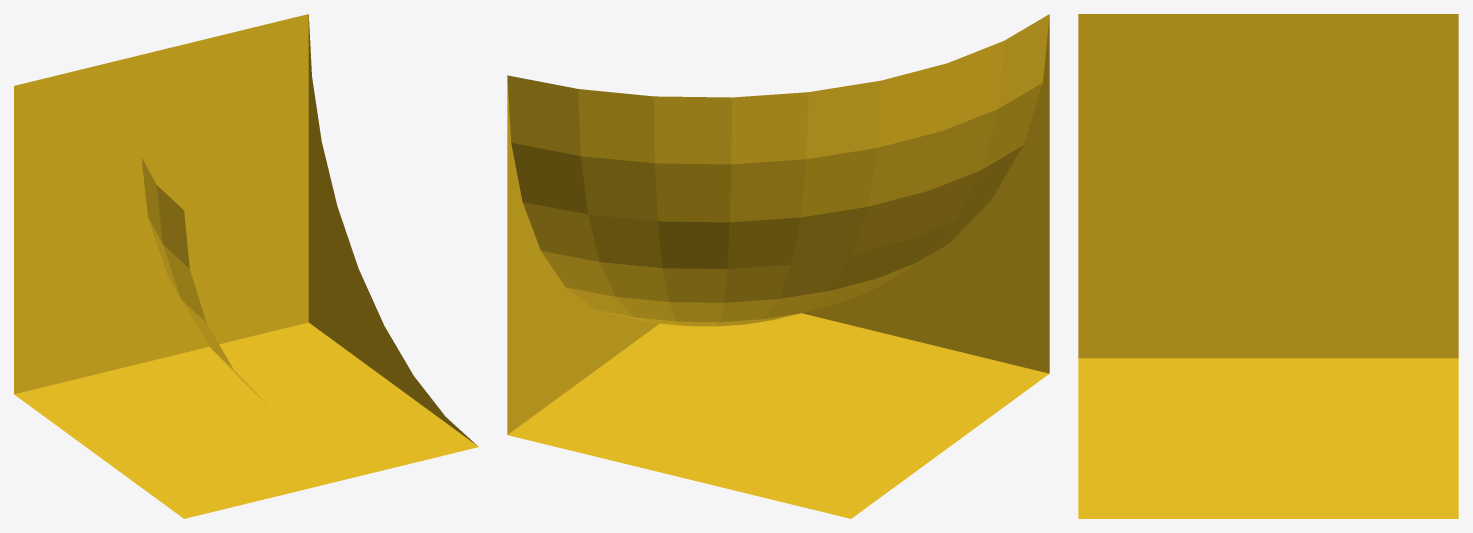
The model's file is r4c2_border_yellow.gltf.
3 renders of one model, left to right at view 1: azimuth 30°, elevation 25°; view 2: azimuth 150°, elevation 25°; view 3: azimuth 270°, elevation 25°, orthographic. The views are drawn at different scales.
Visible parts, largest first — view 1: r4c2_border_yellow; view 2: r4c2_border_yellow; view 3: r4c2_border_yellow.
Part boxes in pixels (bbox=[...]): r4c2_border_yellow: bbox=[14, 14, 478, 518]; r4c2_border_yellow: bbox=[507, 14, 1049, 518]; r4c2_border_yellow: bbox=[1078, 14, 1458, 518].
Bounding box in the file's own units: 2.1 × 2.1 × 2.1.
Materials: 1 (1 with a texture image).
